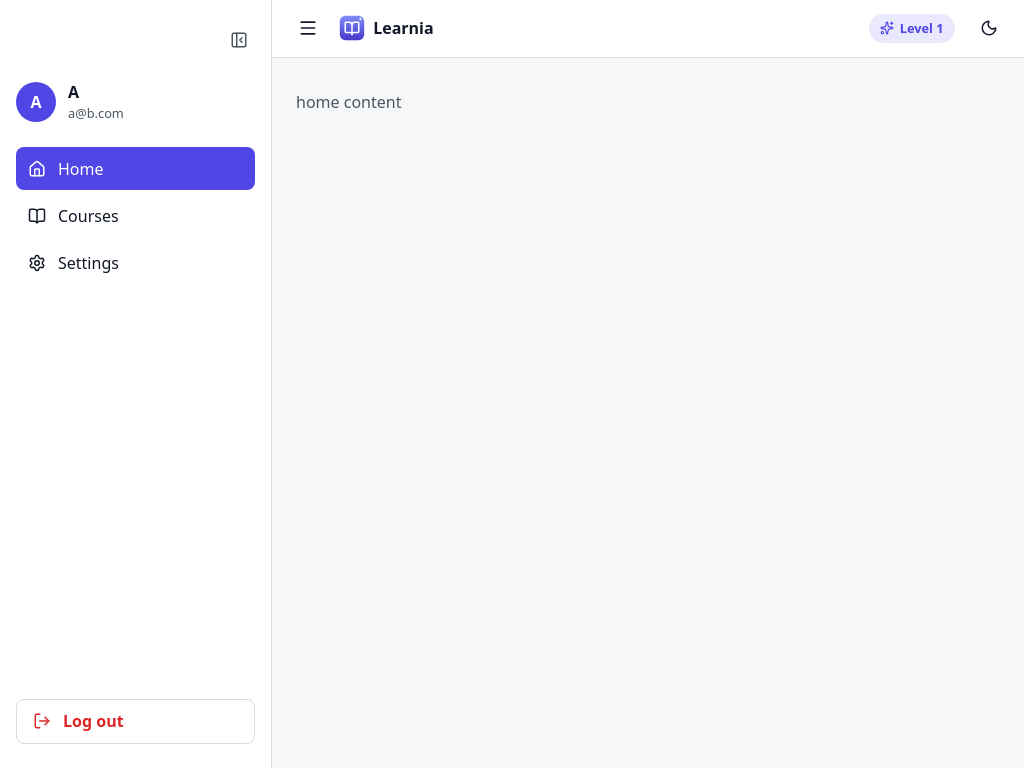
Test: AppLayout › pins the sidebar open by default, and the menu button collapses/expands it
Check: the text "a@b.com" is shown, box [68,104,124,123]
Check: the link "Home" is shown, box [16,147,255,190]
Click the button named "Close menu" at x=308, y=28, box [288,12,327,45]
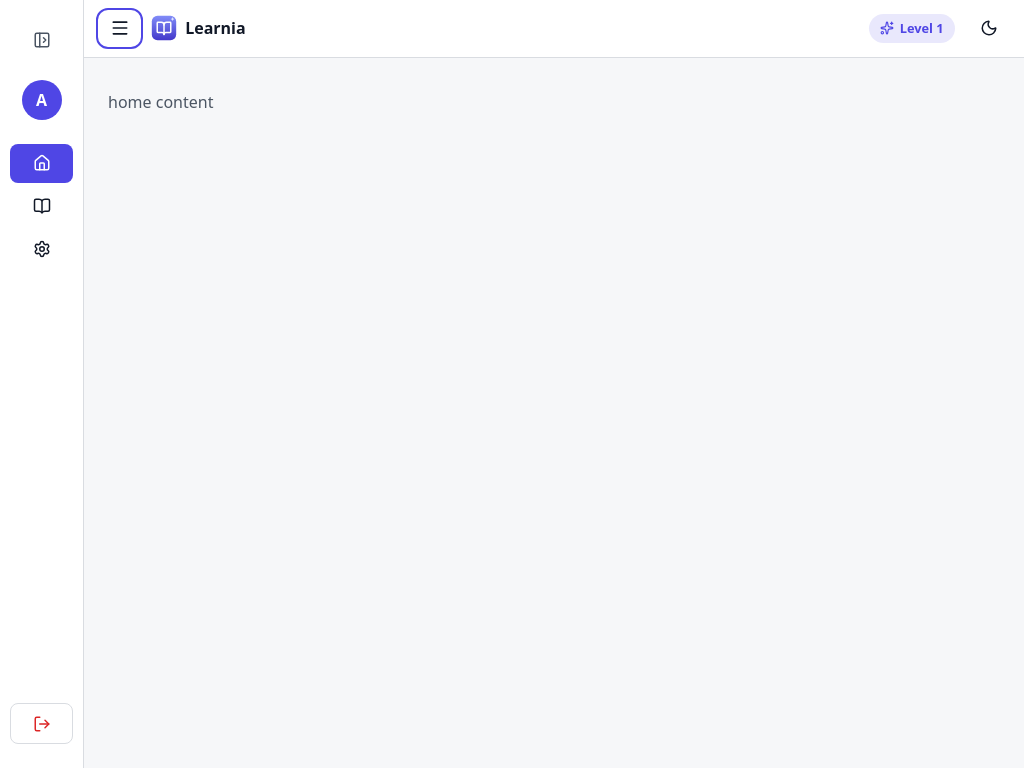
Check: the button named "Open menu" is collapsed
Check: the text "a@b.com" is gone
Click the button named "Open menu" at x=120, y=28, box [100,12,139,45]
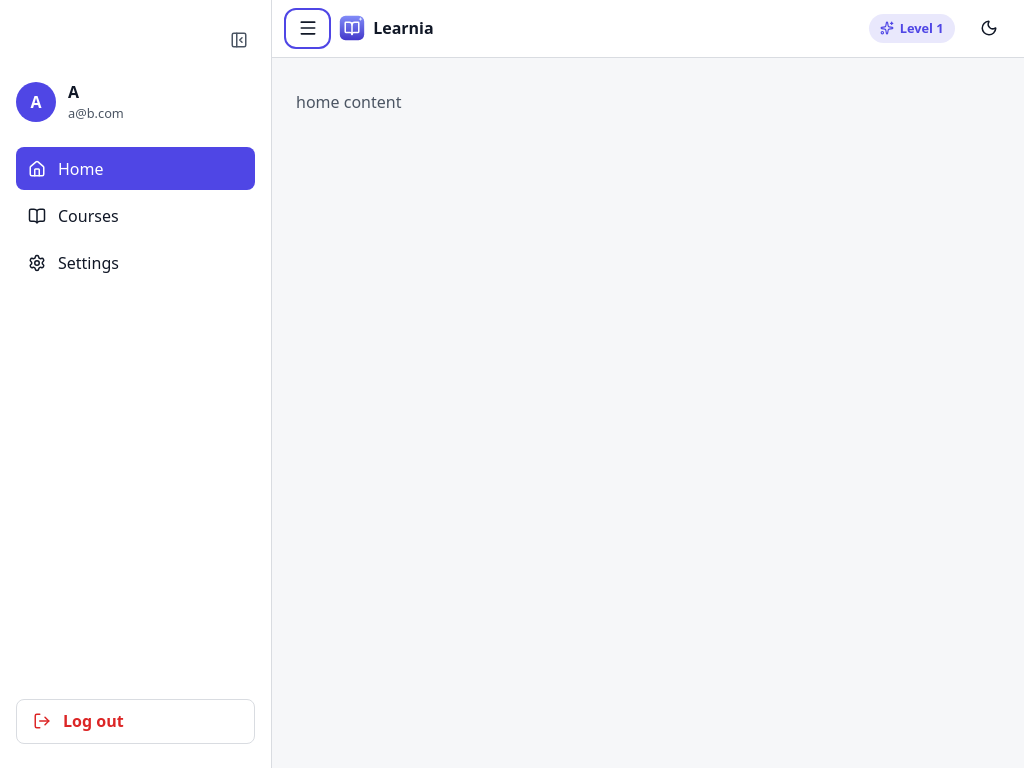
Check: the button named "Close menu" is expanded, box [288,12,327,45]
Check: the text "a@b.com" is shown, box [68,104,124,123]
